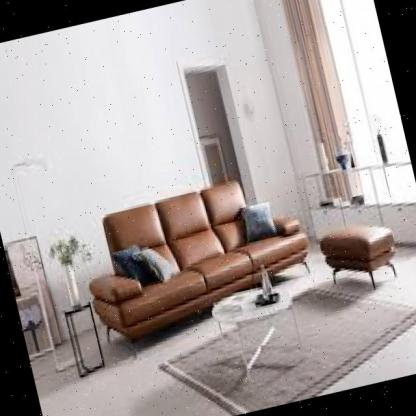Sofa: (70, 149, 336, 383)
